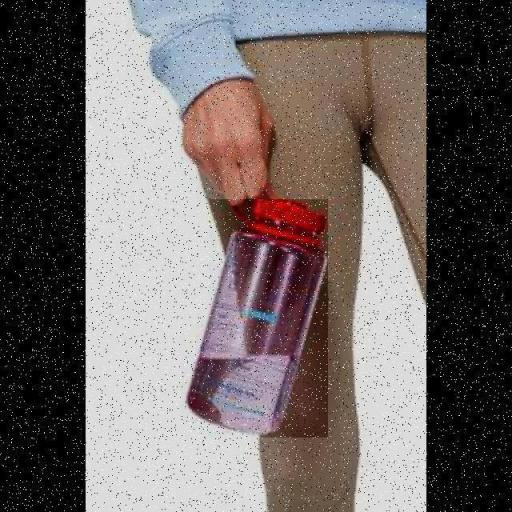bottle: (186, 200, 328, 438)
